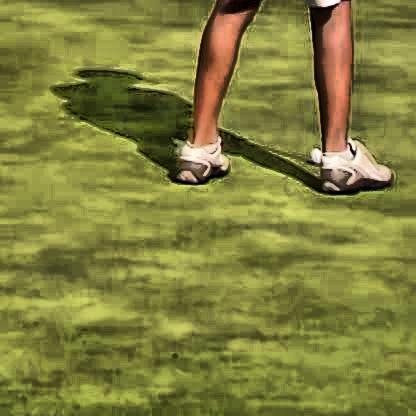golfball: (309, 141, 319, 159)
